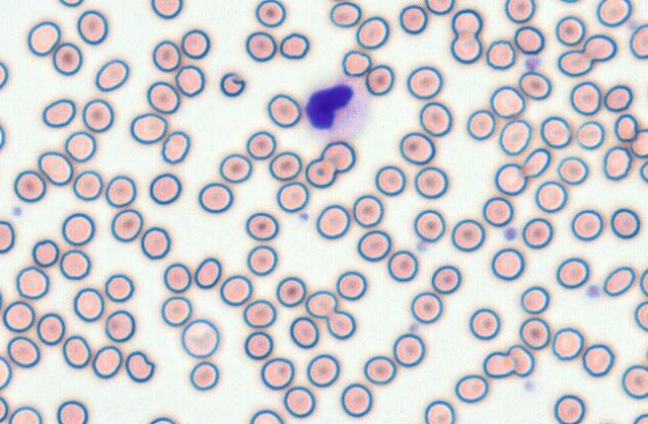MONO: (303, 79, 371, 144)
PLT: (503, 227, 521, 243), (524, 56, 541, 71), (10, 204, 25, 219), (586, 284, 601, 297), (415, 241, 429, 254)
RBC: (180, 318, 219, 358), (315, 204, 350, 239), (37, 151, 73, 185), (406, 65, 442, 99), (498, 119, 532, 155), (27, 20, 61, 56), (399, 131, 435, 165), (129, 112, 167, 144), (418, 101, 452, 136), (450, 218, 485, 252), (489, 85, 525, 118), (15, 265, 49, 299), (306, 353, 340, 387), (355, 15, 389, 49), (267, 93, 301, 127), (320, 140, 355, 173), (76, 9, 108, 45), (110, 208, 143, 242), (490, 247, 524, 280), (260, 357, 294, 390), (392, 333, 425, 367), (6, 335, 40, 368), (414, 166, 448, 199), (61, 212, 94, 246), (95, 58, 129, 91), (146, 81, 180, 114), (356, 229, 391, 261), (340, 382, 372, 417), (198, 181, 233, 213), (551, 327, 584, 360), (494, 162, 527, 195), (534, 180, 567, 213), (13, 169, 46, 202), (570, 208, 603, 241), (555, 257, 589, 289), (582, 343, 614, 377), (82, 98, 114, 132), (73, 287, 104, 322), (518, 317, 550, 350), (276, 181, 309, 213), (219, 274, 252, 306), (410, 291, 442, 324), (2, 300, 35, 332), (283, 385, 315, 418), (413, 209, 445, 242), (468, 307, 500, 340), (540, 115, 572, 148), (570, 81, 601, 115), (450, 32, 482, 64), (149, 172, 181, 204), (374, 164, 406, 196), (64, 130, 96, 162), (91, 345, 122, 378), (387, 249, 418, 282), (352, 194, 383, 227), (104, 309, 135, 342), (105, 174, 136, 207), (268, 151, 302, 181), (160, 130, 190, 164), (42, 98, 76, 128), (582, 33, 617, 62), (603, 145, 632, 180), (557, 49, 593, 77), (522, 217, 553, 249), (59, 249, 91, 280), (160, 295, 192, 326), (246, 244, 277, 276), (363, 355, 396, 385), (245, 211, 278, 241), (52, 42, 82, 75), (219, 153, 252, 183), (518, 70, 551, 100), (174, 64, 204, 97), (140, 226, 170, 259), (602, 266, 635, 296), (242, 299, 276, 328), (454, 374, 488, 403), (596, 0, 632, 27), (72, 170, 103, 201), (305, 157, 336, 188), (275, 276, 306, 307), (482, 196, 513, 227), (245, 31, 276, 62), (335, 270, 367, 300), (289, 316, 319, 348), (556, 155, 588, 185), (610, 207, 640, 239), (305, 289, 338, 318), (62, 335, 91, 368), (36, 312, 65, 345), (521, 147, 551, 178), (555, 15, 585, 46), (180, 28, 210, 59), (553, 394, 585, 423), (621, 364, 647, 399), (485, 39, 515, 69), (246, 130, 276, 160), (431, 264, 461, 294), (513, 25, 544, 54), (466, 109, 495, 140), (365, 64, 394, 95), (194, 257, 222, 289), (152, 40, 180, 72), (482, 351, 515, 378), (104, 273, 134, 302), (189, 361, 219, 390), (398, 4, 427, 34), (451, 8, 482, 36), (163, 262, 191, 293), (326, 310, 355, 339), (244, 331, 273, 360), (520, 285, 549, 314), (341, 49, 371, 77), (576, 120, 604, 150), (603, 84, 633, 112), (255, 0, 286, 27), (329, 1, 361, 27), (279, 32, 309, 59), (31, 239, 59, 267), (56, 400, 88, 423), (424, 400, 455, 423), (504, 0, 535, 23), (614, 113, 637, 142), (629, 23, 647, 59), (150, 0, 182, 19), (8, 406, 42, 423), (630, 128, 647, 158), (0, 220, 15, 253), (249, 409, 283, 423), (424, 0, 454, 15), (0, 355, 12, 390), (634, 300, 647, 331), (639, 267, 647, 296), (0, 61, 8, 89), (0, 396, 8, 422), (147, 416, 176, 423), (639, 160, 647, 183), (58, 0, 84, 7), (633, 413, 647, 423), (0, 124, 5, 149), (594, 420, 619, 424), (644, 344, 648, 365), (0, 289, 3, 313), (559, 0, 581, 3)
Schistocyte: (125, 351, 155, 383), (509, 345, 534, 377), (218, 71, 246, 97)
